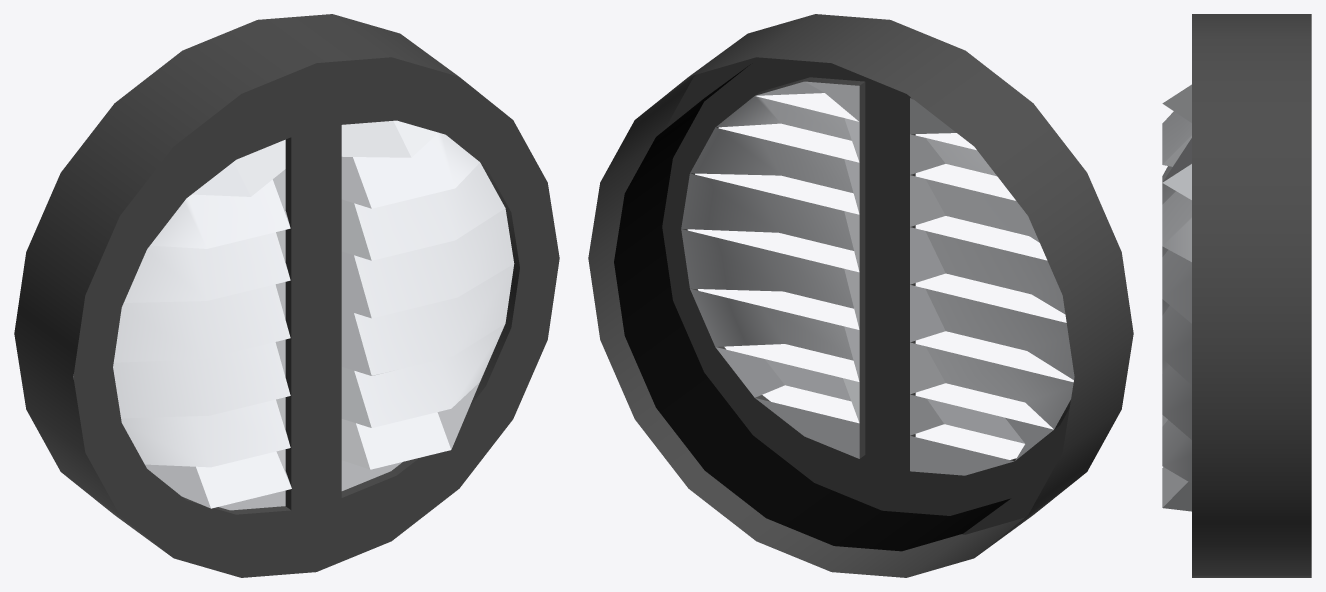
The model's file is Deco_Vent.fbx.
3 views of the same model, side by side, from view 1: azimuth 30°, elevation 25°; view 2: azimuth 150°, elevation 25°; view 3: azimuth 270°, elevation 25° (orthographic).
Parts seen in each view (by area): view 1: AirVent; view 2: AirVent; view 3: AirVent.
Part boxes in pixels (box(x1,y1,x2,y2)): AirVent: box(14, 14, 559, 577); AirVent: box(588, 14, 1133, 577); AirVent: box(1162, 14, 1311, 577).
Size of the model in its own units: 2.34 by 2.34 by 0.6153.
1 material, 1 textured.
